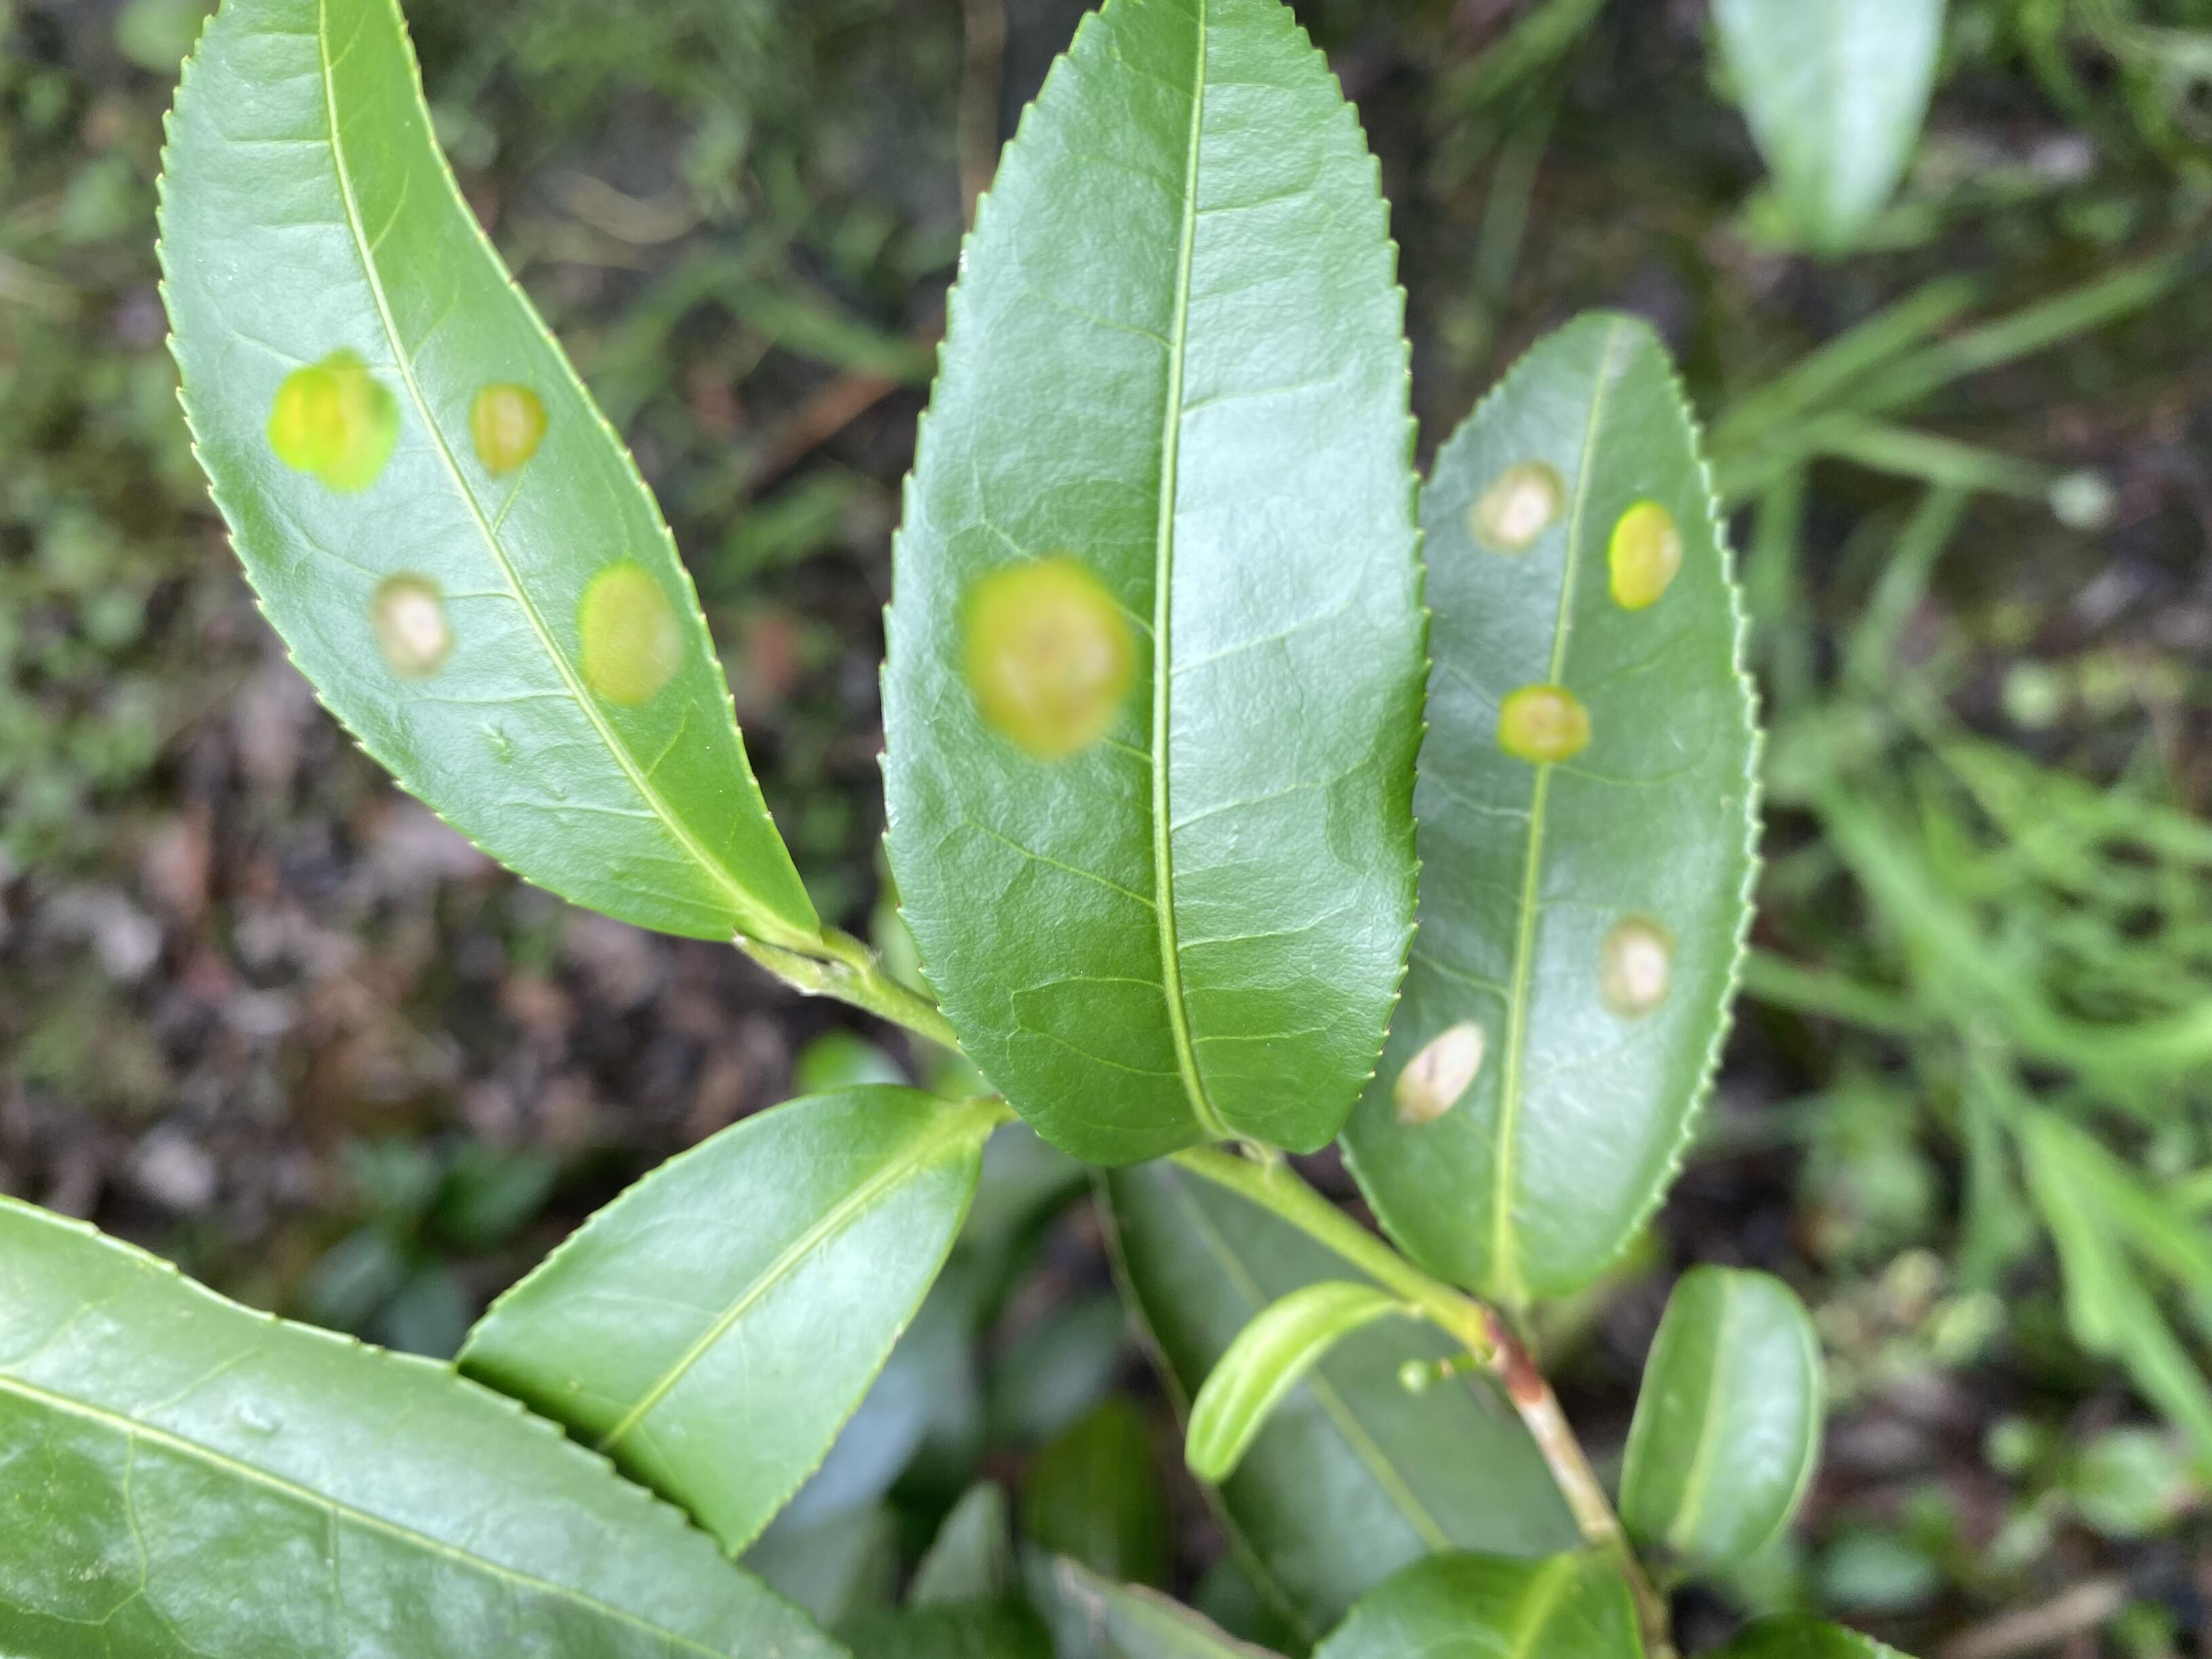chabing_high: (150, 2, 831, 960), (1353, 314, 1764, 1310)
chabing_low: (883, 3, 1379, 1164)
healthy: (5, 1195, 845, 1656), (462, 1086, 986, 1558)
